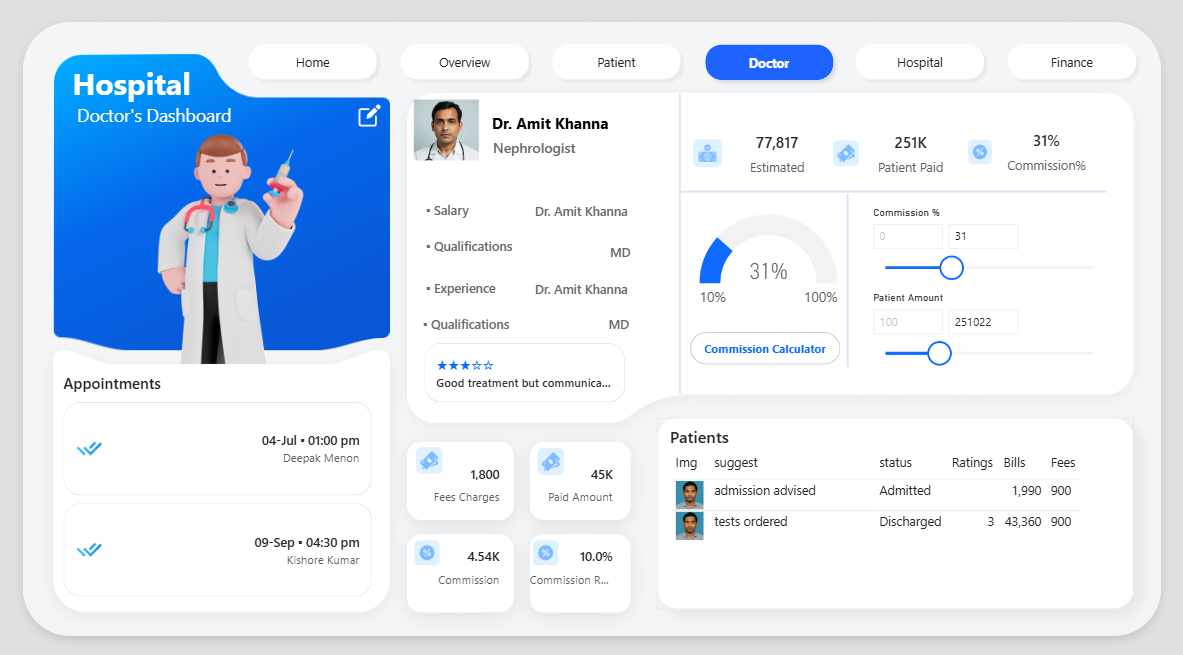

The page's visual inventory and layout, read from the dashboard file:
{"tool":"powerbi","page":{"name":"Doctor","canvas":[1280,720],"ordinal":3},"visuals":[{"type":"textbox","box":[84.9,71.9,196,78.4],"z":0},{"type":"shape","box":[465.2,299.5,120.9,32.7],"z":1000},{"type":"shape","box":[534.8,300.4,143.8,32.8],"z":2000},{"type":"shape","box":[534.1,123.5,155.2,32.7],"z":3000},{"type":"cardVisual","fields":{"Data":["Min(Doctor.specialization)"]},"box":[517.8,135,161.7,55.5],"z":4000},{"type":"shape","box":[462.1,337,120.1,32],"z":5000},{"type":"shape","box":[535.2,337.3,145.4,32.7],"z":6000},{"type":"advancedSlicerVisual","title":"Appointments","fields":{"Values":["Appointment.Date_Time"]},"box":[75,405.7,337.4,242.3],"z":7000},{"type":"advancedSlicerVisual","title":"Appointments","fields":{"Values":["Satisfaction_Score.feedback"]},"box":[437.8,369.5,263.8,73.6],"z":8000},{"type":"shape","box":[464.9,216.4,120.9,32.7],"z":9000},{"type":"shape","box":[534.5,217.3,143.8,32.8],"z":10000},{"type":"shape","box":[464.7,255.3,119.2,32.7],"z":11000},{"type":"shape","box":[535.4,261.3,145.4,32.7],"z":12000},{"type":"tableEx","title":"Patients","fields":{"Values":["Patient.Img","Appointment.suggest","Patient.status","Sum(Satisfaction_Score.rating)","Sum(Hospital_Bills.Value)","Appointment.fees"]},"box":[709.4,453.2,506,203.4],"z":13000},{"type":"cardVisual","fields":{"Data":["Hospital_Bills.Fees_Charges","Hospital_Bills.Paid_Amount","Hospital_Bills.Doctor_Commission","Doctor.Commissions"]},"box":[438.1,481,242.9,176.2],"z":14000},{"type":"card","fields":{"Values":["Max(Patient_Amount.Value)"]},"box":[919.9,139.1,117.2,67.2],"z":15000},{"type":"card","fields":{"Values":["Commission.Commission_Cal"]},"box":[786.2,139.1,101.6,67.2],"z":16000},{"type":"card","fields":{"Values":["Max(Commission.Per%)"]},"box":[1070.2,136,103.2,68.8],"z":17000},{"type":"slicer","fields":{"Values":["Commission.Value"]},"box":[926.5,224.9,269.1,85.7],"z":18000},{"type":"slicer","fields":{"Values":["Patient_Amount.Value"]},"box":[926.1,315.5,269,86.5],"z":19000},{"type":"gauge","fields":{"MinValue":["Commission.Total_Per"],"Y":["Max(Commission.Per%)"]},"box":[748.5,224.8,156.3,129.7],"z":20000},{"type":"shape","box":[745.2,362.6,159.4,34.4],"z":21000},{"type":"image","box":[890.2,152.1,37.5,40.6],"z":22000},{"type":"image","box":[1034.2,152.1,35.9,37.5],"z":23000},{"type":"image","box":[739.3,152.1,46.9,40.6],"z":24000},{"type":"image","box":[572.6,577.6,36.8,38.4],"z":25000},{"type":"image","box":[577.4,479.8,38.1,39.3],"z":26000},{"type":"image","box":[447.7,577.6,36.8,38.4],"z":27000},{"type":"image","box":[448.8,478.6,38.1,40.5],"z":28000},{"type":"shape","box":[733.2,200.4,452.6,26.8],"z":29000},{"type":"shape","box":[895.2,216.5,32.1,183.4],"z":30000},{"type":"image","box":[88.4,135.2,324,266.4],"z":31000},{"type":"pageNavigator","box":[269,48.8,959.5,53.6],"z":32000},{"type":"shape","box":[705.6,109.8,54.9,318.7],"z":33000},{"type":"image","box":[384.2,116.5,39.6,33.6],"z":34000},{"type":"cardVisual","fields":{"Data":["Min(Doctor.Img)"]},"box":[441.7,116.7,88.3,65],"z":36000}]}

Visuals, with their boxes in screenshot pixels (x1, y1, x2, y2), scaled from the page's 1280x720 canvas onto the 1183x655 screenshot:
textbox: {"left": 78, "top": 65, "right": 260, "bottom": 137}
shape: {"left": 430, "top": 272, "right": 542, "bottom": 302}
shape: {"left": 494, "top": 273, "right": 627, "bottom": 303}
shape: {"left": 494, "top": 112, "right": 637, "bottom": 142}
cardVisual - Min(Doctor.specialization): {"left": 479, "top": 123, "right": 628, "bottom": 173}
shape: {"left": 427, "top": 307, "right": 538, "bottom": 336}
shape: {"left": 495, "top": 307, "right": 629, "bottom": 337}
"Appointments" advancedSlicerVisual: {"left": 69, "top": 369, "right": 381, "bottom": 590}
"Appointments" advancedSlicerVisual: {"left": 405, "top": 336, "right": 648, "bottom": 403}
shape: {"left": 430, "top": 197, "right": 541, "bottom": 227}
shape: {"left": 494, "top": 198, "right": 627, "bottom": 228}
shape: {"left": 429, "top": 232, "right": 540, "bottom": 262}
shape: {"left": 495, "top": 238, "right": 629, "bottom": 267}
"Patients" tableEx: {"left": 656, "top": 412, "right": 1123, "bottom": 597}
cardVisual - Hospital_Bills.Fees_Charges x Hospital_Bills.Paid_Amount: {"left": 405, "top": 438, "right": 629, "bottom": 598}
card - Max(Patient_Amount.Value): {"left": 850, "top": 127, "right": 959, "bottom": 188}
card - Commission.Commission_Cal: {"left": 727, "top": 127, "right": 821, "bottom": 188}
card - Max(Commission.Per%): {"left": 989, "top": 124, "right": 1084, "bottom": 186}
slicer - Commission.Value: {"left": 856, "top": 205, "right": 1105, "bottom": 283}
slicer - Patient_Amount.Value: {"left": 856, "top": 287, "right": 1105, "bottom": 366}
gauge - Commission.Total_Per x Max(Commission.Per%): {"left": 692, "top": 205, "right": 836, "bottom": 322}
shape: {"left": 689, "top": 330, "right": 836, "bottom": 361}
image: {"left": 823, "top": 138, "right": 857, "bottom": 175}
image: {"left": 956, "top": 138, "right": 989, "bottom": 172}
image: {"left": 683, "top": 138, "right": 727, "bottom": 175}
image: {"left": 529, "top": 525, "right": 563, "bottom": 560}
image: {"left": 534, "top": 436, "right": 569, "bottom": 472}
image: {"left": 414, "top": 525, "right": 448, "bottom": 560}
image: {"left": 415, "top": 435, "right": 450, "bottom": 472}
shape: {"left": 678, "top": 182, "right": 1096, "bottom": 207}
shape: {"left": 827, "top": 197, "right": 857, "bottom": 364}
image: {"left": 82, "top": 123, "right": 381, "bottom": 365}
pageNavigator: {"left": 249, "top": 44, "right": 1135, "bottom": 93}
shape: {"left": 652, "top": 100, "right": 703, "bottom": 390}
image: {"left": 355, "top": 106, "right": 392, "bottom": 137}
cardVisual - Min(Doctor.Img): {"left": 408, "top": 106, "right": 490, "bottom": 165}
